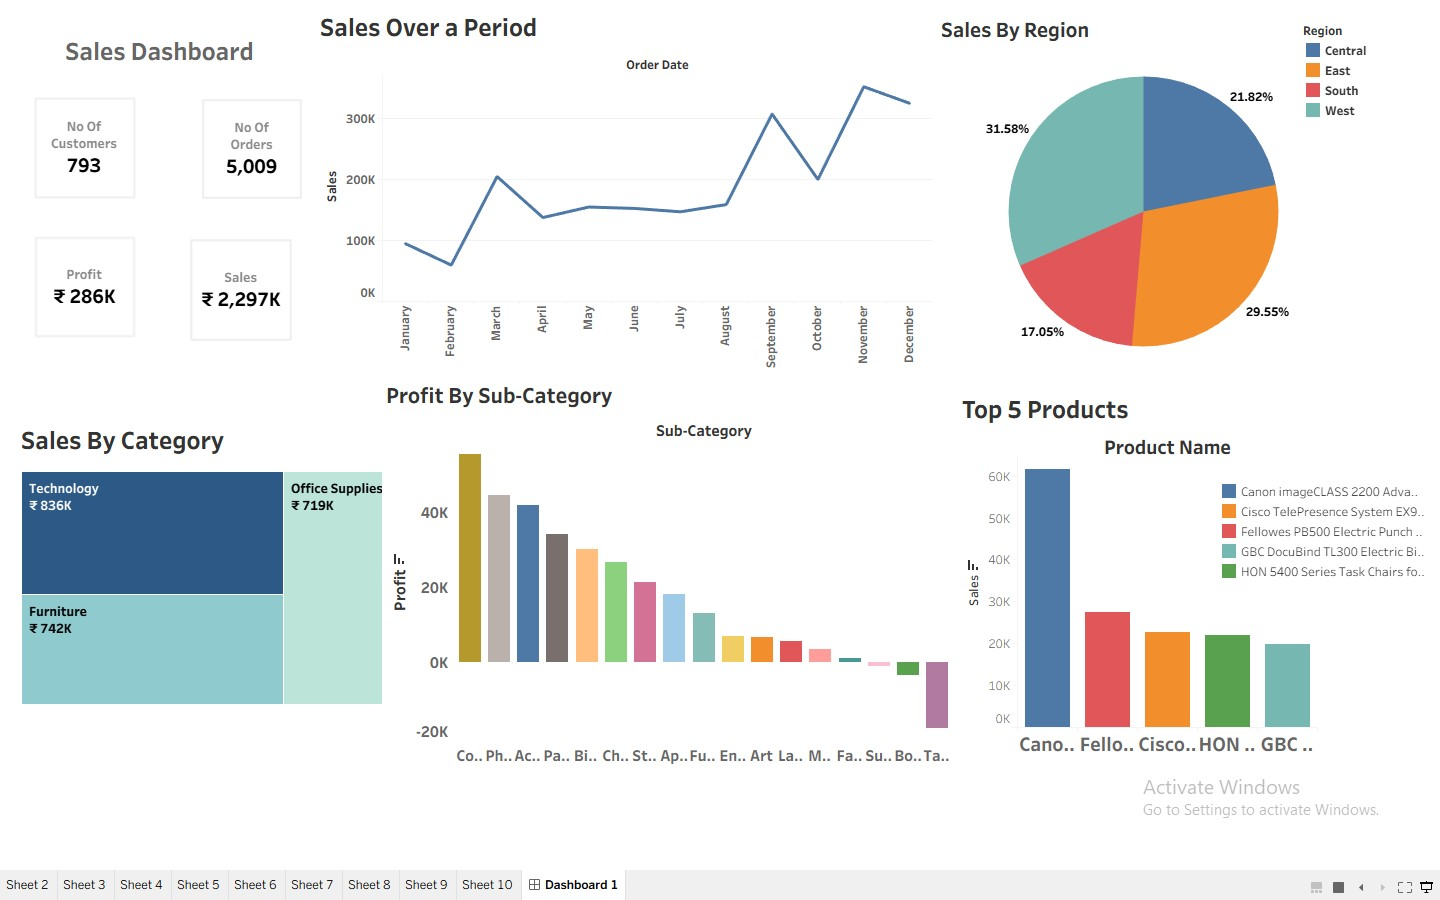

Layout of this report page (visuals, bound fields, positions):
{"tool":"tableau","page":{"name":"Dashboard 1","canvas":[1000,1000],"units":"permille","ordinal":0},"visuals":[{"type":"worksheet","title":"Sheet 4","mark":"Automatic","rows":["Sales"],"cols":["Order Date"],"box":[225.4,9.7,428,429.6]},{"type":"worksheet","title":"Sheet 2","mark":"Pie","box":[650.5,12.4,286.5,413]},{"type":"worksheet","title":"Sheet 9","mark":"Shape","box":[4.8,93.9,128.3,196.1]},{"type":"worksheet","title":"Sheet 10","mark":"Shape","box":[112.2,98.1,125.1,186.5]},{"type":"worksheet","title":"Sheet 7","mark":"Shape","box":[112.2,269.3,210.7,240.3]},{"type":"worksheet","title":"Sheet 5","mark":"Automatic","rows":["Profit"],"cols":["Sub-Category"],"box":[265.5,432.3,396.3,448.9]},{"type":"worksheet","title":"Sheet 6","mark":"Automatic","rows":["Sales"],"cols":["Product Name"],"box":[665.1,446.1,326.1,435.1]},{"type":"worksheet","title":"Sheet 3","mark":"Automatic","box":[12.1,482,333.3,332.9]},{"type":"legend","title":"Sheet 6","param":"[federated.02a8jde1gd5b9s1ddr7dg001tand].[none:Product Name:nk]","box":[846.6,552.5,146.1,163]}]}

Visuals, with their boxes on the dashboard's canvas, which has no fixed pixel size, in thousandths of its width and height (x1, y1, x2, y2). These are canvas units, not pixel positions in the 1440x900 screenshot, which may show the page scaled, cropped or inside an application window:
"Sheet 4" worksheet: (225,10,653,439)
"Sheet 2" worksheet (Pie marks): (650,12,937,425)
"Sheet 9" worksheet (Shape marks): (5,94,133,290)
"Sheet 10" worksheet (Shape marks): (112,98,237,285)
"Sheet 7" worksheet (Shape marks): (112,269,323,510)
"Sheet 5" worksheet: (266,432,662,881)
"Sheet 6" worksheet: (665,446,991,881)
"Sheet 3" worksheet: (12,482,345,815)
"Sheet 6" legend: (847,552,993,716)
